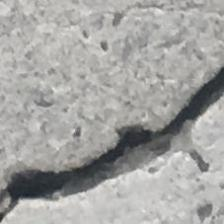Crack: (4, 54, 224, 224)
